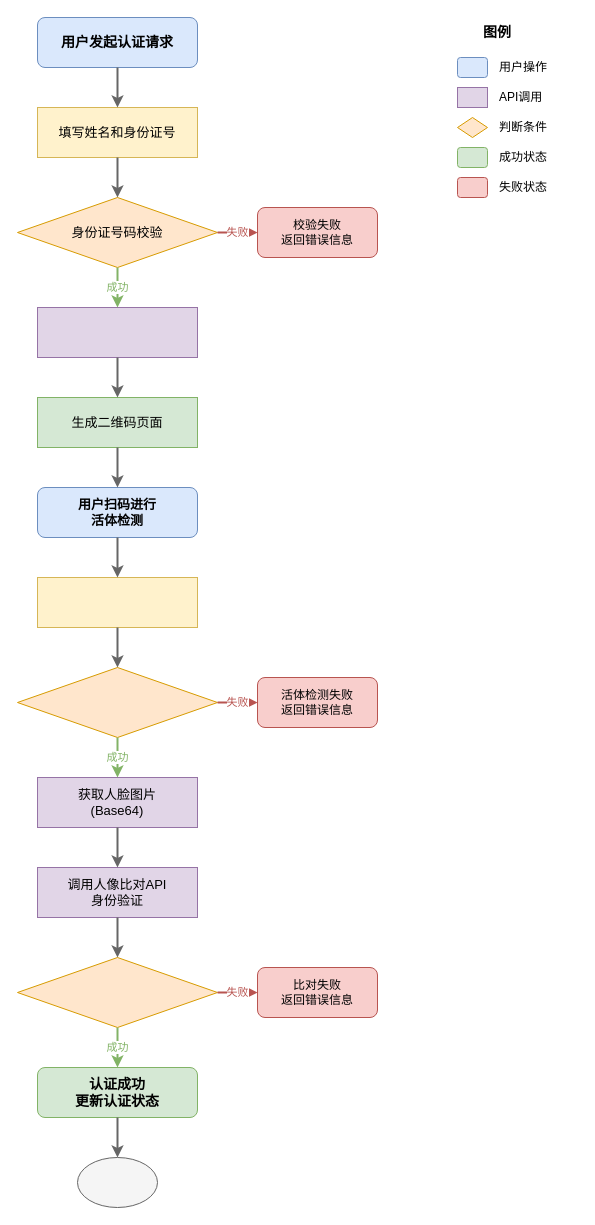
The diagram is 595 pixels wide and 1225 high, and some of its shapes have lost their labels. The shapes that lost their labels are listed below. From the top down, each one's centre as x and y in pixels, then its label:
At (x=117, y=332): "调用活体检测API 获取认证链接".
At (x=117, y=602): "轮询活体检测结果".
At (x=117, y=702): "活体检测 是否通过？".
At (x=117, y=992): "人像比对 是否通过？".
At (x=117, y=1182): "结束".
